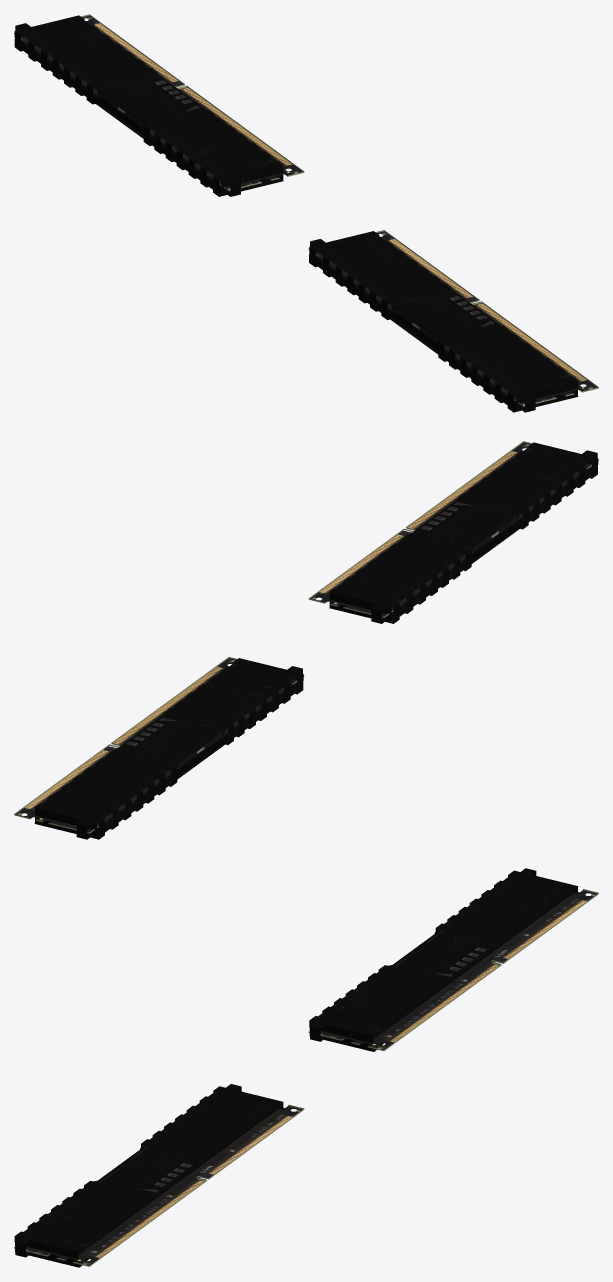
Rendered from ram-corsair-vengeance-lpx.glb.
3 renders of one model, top to bottom at view 1: azimuth 30°, elevation 25°; view 2: azimuth 150°, elevation 25°; view 3: azimuth 330°, elevation 25°, orthographic.
Parts seen in each view (by area): view 1: Cube_Material.001_0, Cube_Material.001_0.001, Plane.001_Material_0.001, Plane.001, Plane.042_Material_0.001, Plane.042, Plane.012, Plane.011_Material.005_0.001, Plane.002, Plane.006, Plane.009_Material.005_0.001, Plane.007_Material.005_0.001 (+18 smaller); view 2: Cube_Material.001_0.001, Cube_Material.001_0, Plane.001_Material_0.001, Plane.001, Plane.042_Material_0.001, Plane.042, Plane.009_Material.005_0.001, Plane.009, Plane.014_Material.005_0.001, Plane.006_Material.005_0.001, Plane.010, Plane.003_Material.005_0.001 (+19 smaller); view 3: Cube_Material.001_0, Cube_Material.001_0.001, Plane.001, Plane.001_Material_0.001, Plane.042_Material_0.001, Plane.042.
Part boxes in pixels (left/top/right/bottom): Cube_Material.001_0: left=18, top=20, right=283, bottom=195; Cube_Material.001_0.001: left=313, top=236, right=577, bottom=411; Plane.001_Material_0.001: left=308, top=230, right=598, bottom=406; Plane.001: left=14, top=14, right=304, bottom=190; Plane.042_Material_0.001: left=315, top=231, right=597, bottom=405; Plane.042: left=21, top=15, right=302, bottom=189; Plane.012: left=52, top=43, right=122, bottom=79; Plane.011_Material.005_0.001: left=335, top=250, right=405, bottom=286; Plane.002: left=200, top=151, right=270, bottom=187; Plane.006: left=154, top=117, right=224, bottom=153; Plane.009_Material.005_0.001: left=309, top=231, right=379, bottom=267; Plane.007_Material.005_0.001: left=438, top=325, right=508, bottom=361; Cube_Material.001_0.001: left=329, top=447, right=594, bottom=622; Cube_Material.001_0: left=35, top=663, right=301, bottom=838; Plane.001_Material_0.001: left=308, top=441, right=598, bottom=617; Plane.001: left=14, top=657, right=304, bottom=833; Plane.042_Material_0.001: left=310, top=442, right=591, bottom=616; Plane.042: left=15, top=658, right=297, bottom=832; Plane.009_Material.005_0.001: left=329, top=587, right=399, bottom=623; Plane.009: left=34, top=803, right=104, bottom=839; Plane.014_Material.005_0.001: left=390, top=543, right=460, bottom=579; Plane.006_Material.005_0.001: left=469, top=485, right=539, bottom=521; Plane.010: left=48, top=793, right=118, bottom=829; Plane.003_Material.005_0.001: left=503, top=460, right=573, bottom=496; Cube_Material.001_0: left=311, top=876, right=577, bottom=1051; Cube_Material.001_0.001: left=16, top=1091, right=283, bottom=1266; Plane.001: left=308, top=889, right=598, bottom=1050; Plane.001_Material_0.001: left=14, top=1104, right=304, bottom=1266; Plane.042_Material_0.001: left=26, top=1106, right=302, bottom=1265; Plane.042: left=320, top=890, right=597, bottom=1049.
Bounding box in the file's own units: 0.9795 × 0.1944 × 10.81.
10 materials, 8 textured.
